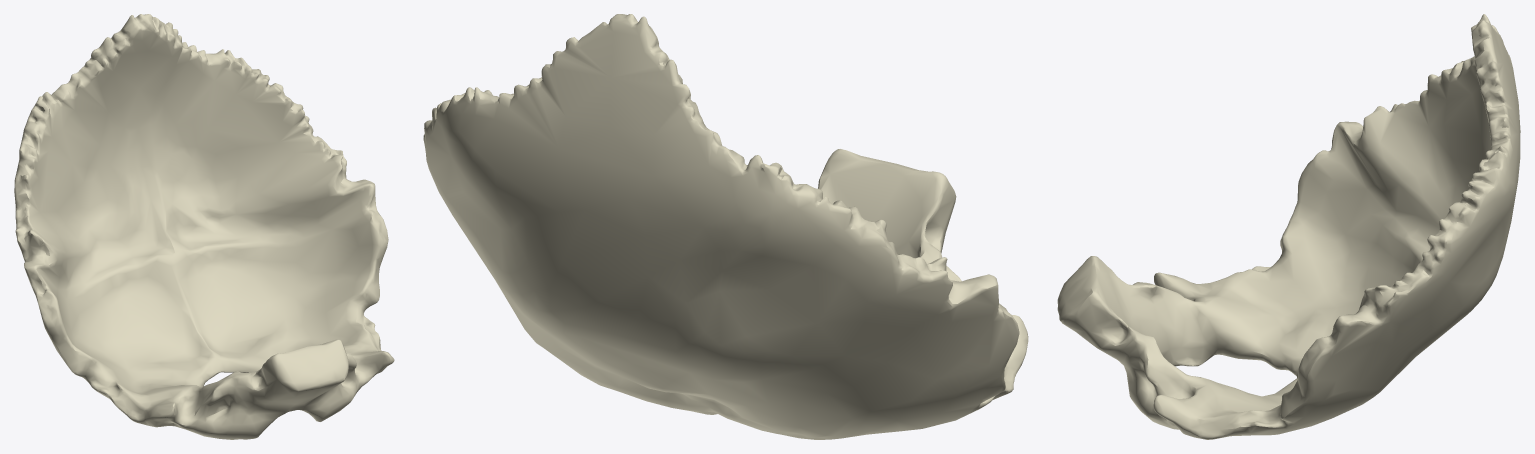
The model's file is occipital.glb.
3 renders of one model, left to right at view 1: azimuth 30°, elevation 25°; view 2: azimuth 150°, elevation 25°; view 3: azimuth 270°, elevation 25°, orthographic. The views are drawn at different scales.
Visible parts, largest first — view 1: grp1; view 2: grp1; view 3: grp1.
Part boxes in pixels (box(x1,y1,x2,y2)): grp1: box(14, 14, 394, 439); grp1: box(423, 14, 1028, 439); grp1: box(1057, 14, 1520, 439).
Size of the model in its own units: 0.1227 by 0.1067 by 0.119.
